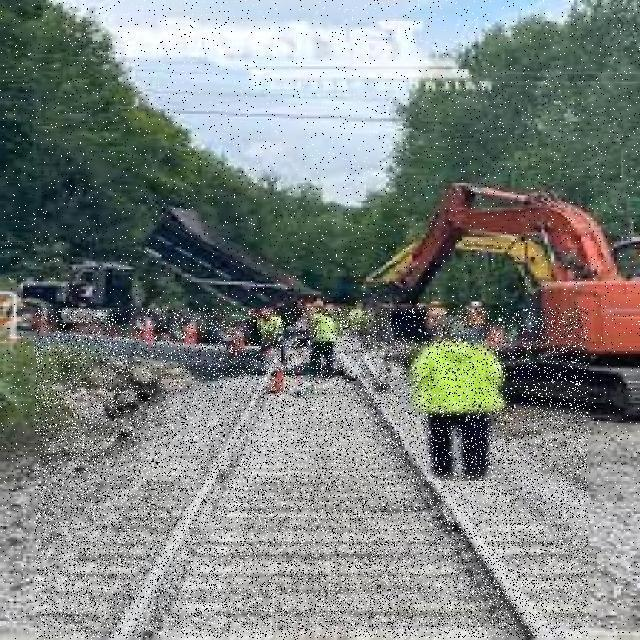danger: (404, 317, 516, 480), (244, 310, 356, 404)
rail: (36, 308, 588, 638)
